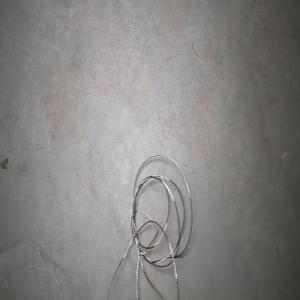Wire: (107, 154, 192, 300)
